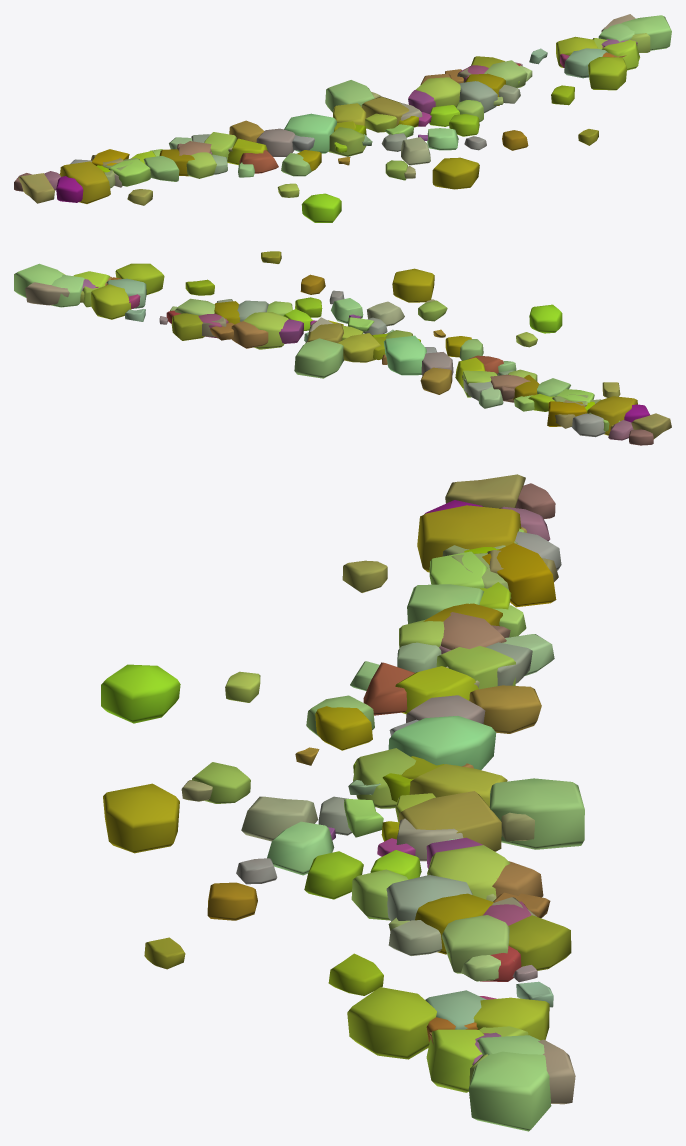
Rendered from SM_GravelWash_0_Stone.glb.
3 renders of one model, top to bottom at view 1: azimuth 30°, elevation 25°; view 2: azimuth 150°, elevation 25°; view 3: azimuth 270°, elevation 25°, orthographic. The views are drawn at different scales.
Parts seen in each view (by area): view 1: SM_GravelWash_0_Stone; view 2: SM_GravelWash_0_Stone; view 3: SM_GravelWash_0_Stone.
Boxes of the visible parts, x1,y1,x2,y2 form: SM_GravelWash_0_Stone: (14, 14, 671, 222); SM_GravelWash_0_Stone: (14, 251, 671, 445); SM_GravelWash_0_Stone: (101, 474, 584, 1131).
Bounding box in the file's own units: 1.69 × 0.0822 × 0.5531.
